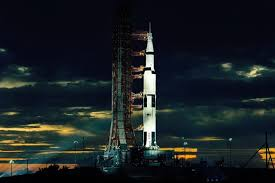ten_lua: (143, 23, 162, 151)
